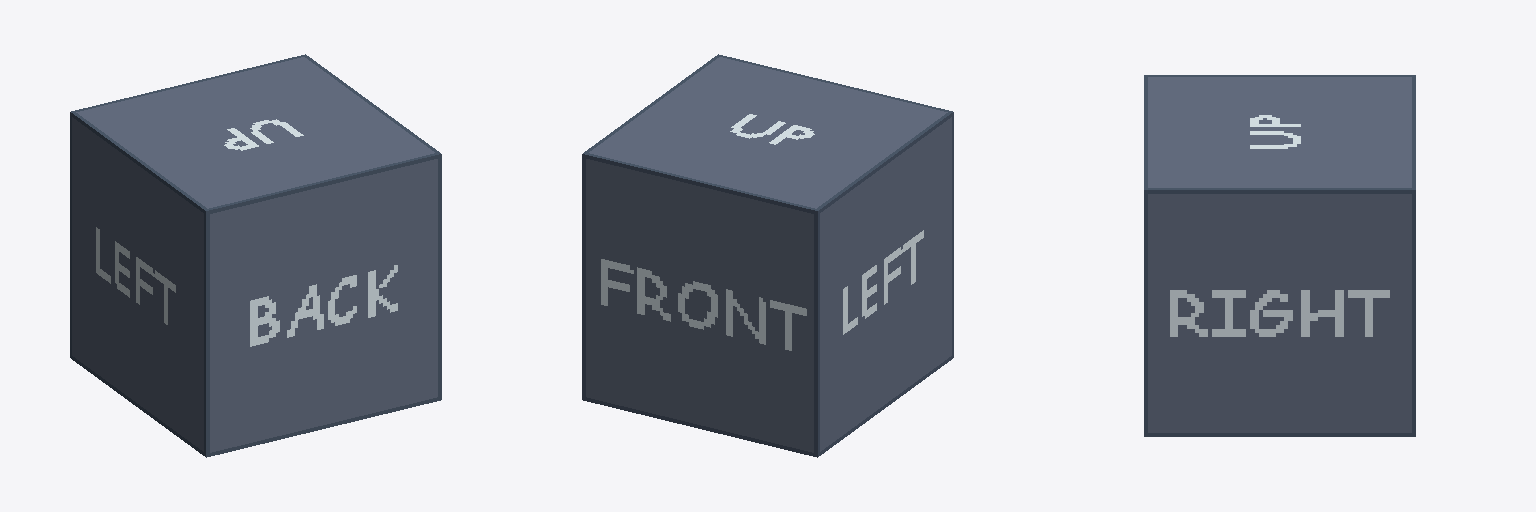
3 renders of one model, left to right at view 1: azimuth 30°, elevation 25°; view 2: azimuth 150°, elevation 25°; view 3: azimuth 270°, elevation 25°, orthographic.
Visible parts, largest first — view 1: cuboid; view 2: cuboid; view 3: cuboid.
Boxes of the visible parts, x1,y1,x2,y2 form: cuboid: [70, 54, 441, 457]; cuboid: [582, 54, 953, 457]; cuboid: [1144, 75, 1415, 436].
Size of the model in its own units: 1 by 1 by 1.
Materials: 1 (1 with a texture image).